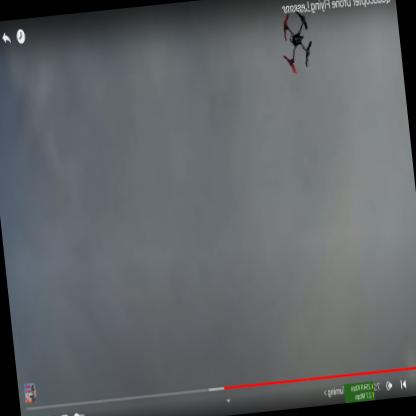drone: (271, 6, 316, 75)
